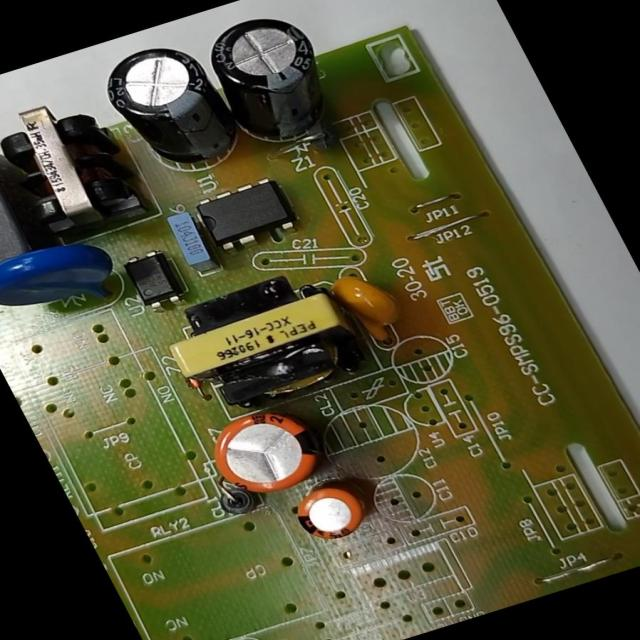Cap1: (176, 383, 354, 513)
Cap2: (272, 471, 387, 561)
Transformer: (152, 250, 392, 437)
